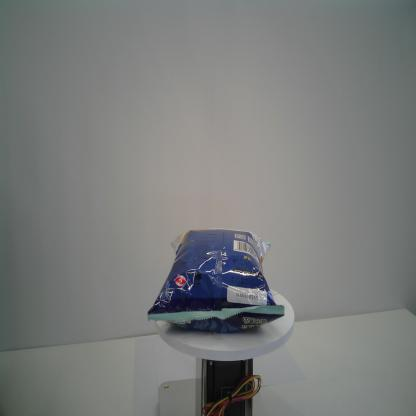Puffed Food: (147, 228, 285, 335)
